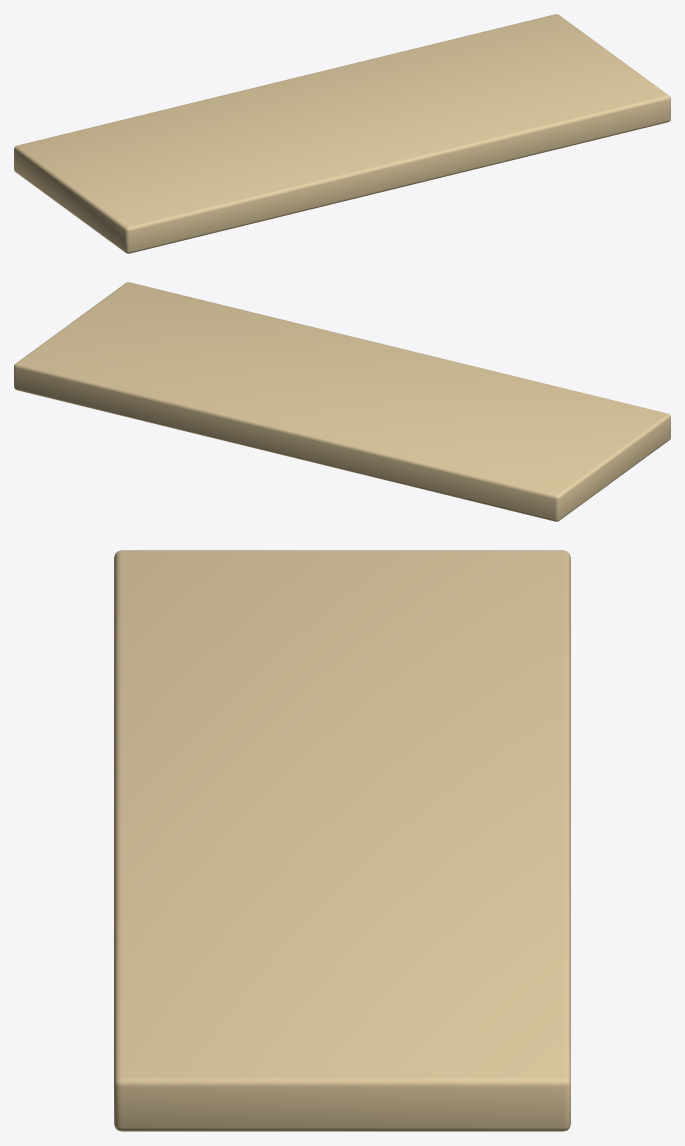
Rendered from puzzle_inlay.glb.
3 renders of one model, top to bottom at view 1: azimuth 30°, elevation 25°; view 2: azimuth 150°, elevation 25°; view 3: azimuth 270°, elevation 25°, orthographic. The views are drawn at different scales.
Parts seen in each view (by area): view 1: puzzle_inlay; view 2: puzzle_inlay; view 3: puzzle_inlay.
Boxes of the visible parts, x1,y1,x2,y2 form: puzzle_inlay: (14,14,670,253); puzzle_inlay: (14,282,670,521); puzzle_inlay: (114,550,570,1131).
Bounding box in the file's own units: 0.0855 × 0.004 × 0.031.
